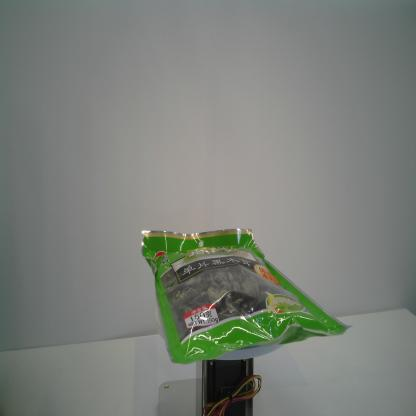Dried Food: (139, 224, 355, 368)
